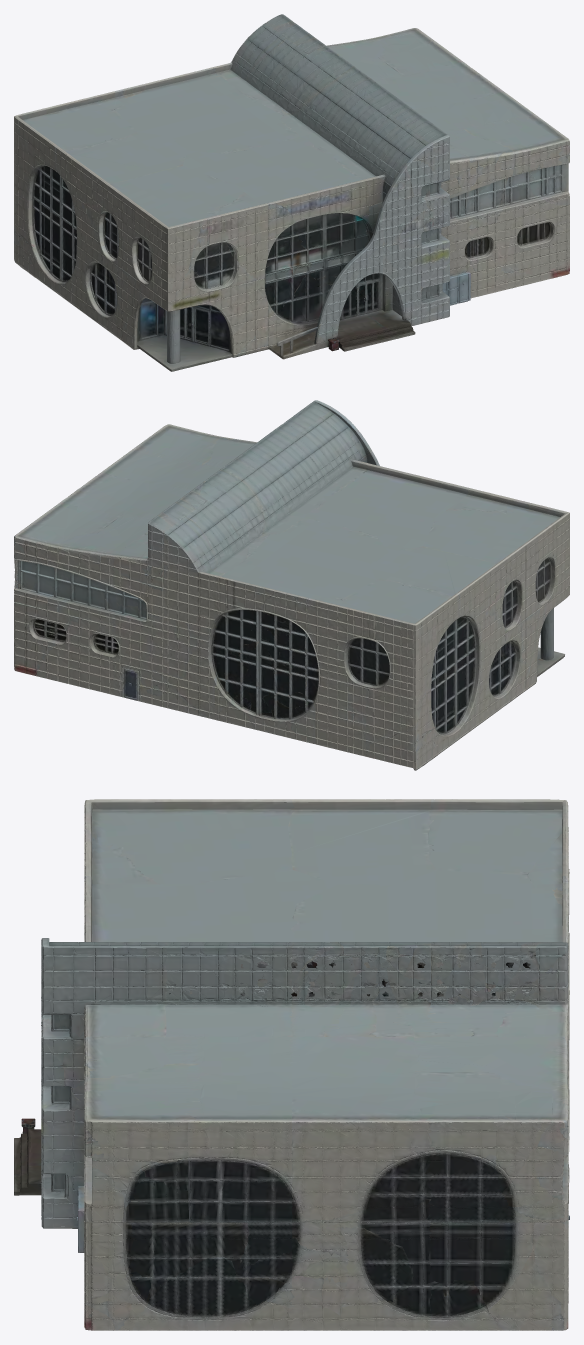
Rendered from model-2-mini.glb.
3 renders of one model, top to bottom at view 1: azimuth 30°, elevation 25°; view 2: azimuth 150°, elevation 25°; view 3: azimuth 270°, elevation 25°, orthographic. The views are drawn at different scales.
Visible parts, largest first — view 1: aiprintgen_0; view 2: aiprintgen_0; view 3: aiprintgen_0.
Boxes of the visible parts, x1=… form: aiprintgen_0: x1=14, y1=14, x2=569, y2=371; aiprintgen_0: x1=14, y1=400, x2=569, y2=770; aiprintgen_0: x1=14, y1=799, x2=569, y2=1330.
Bounding box in the file's own units: 1 × 0.4364 × 0.7635.
1 material, 1 textured.
